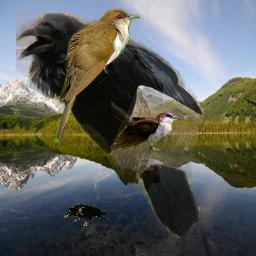Crow: (16, 13, 204, 242), (64, 204, 106, 226)
Cuckoo: (54, 7, 140, 151), (111, 85, 181, 153)
